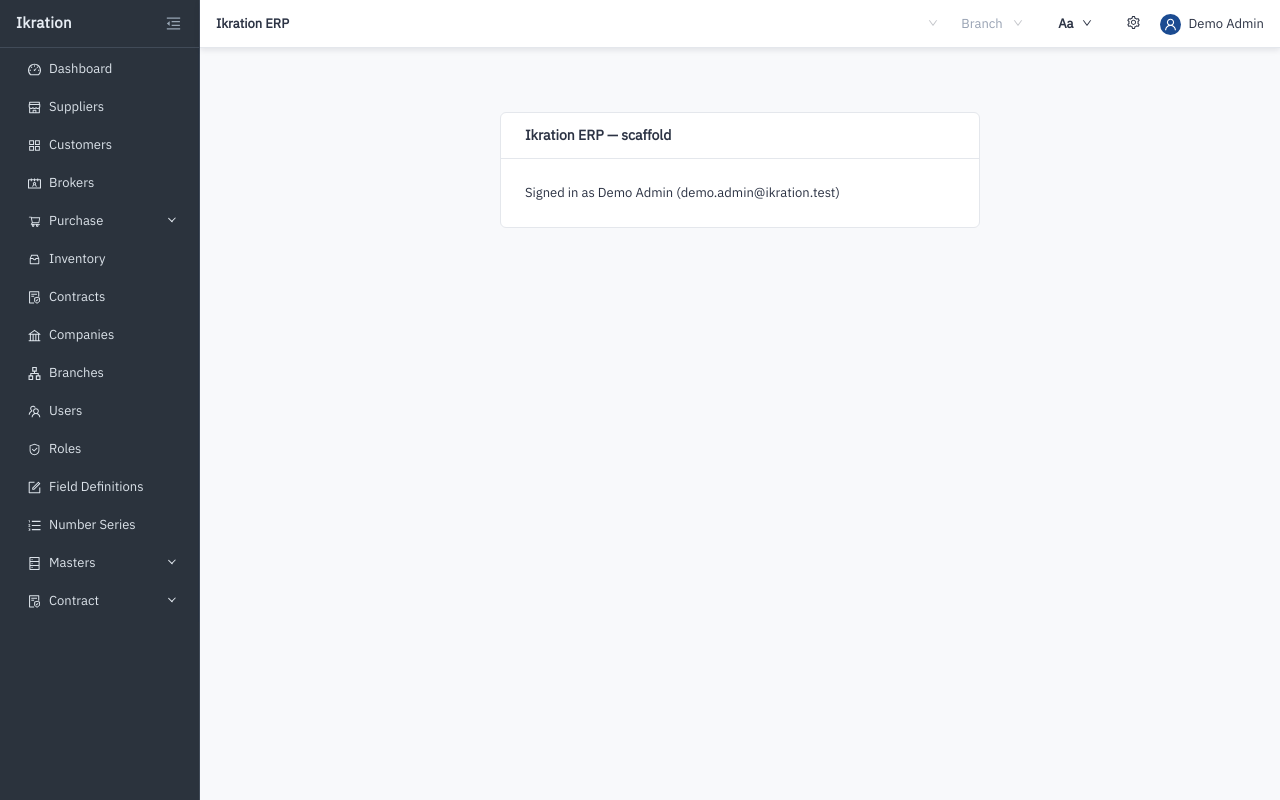
Test: navigation › Settings sub-nav shows only configure items - reached via the header gear
Click the button named "Settings" at {"x": 1134, "y": 23}, box [1120, 9, 1148, 37]
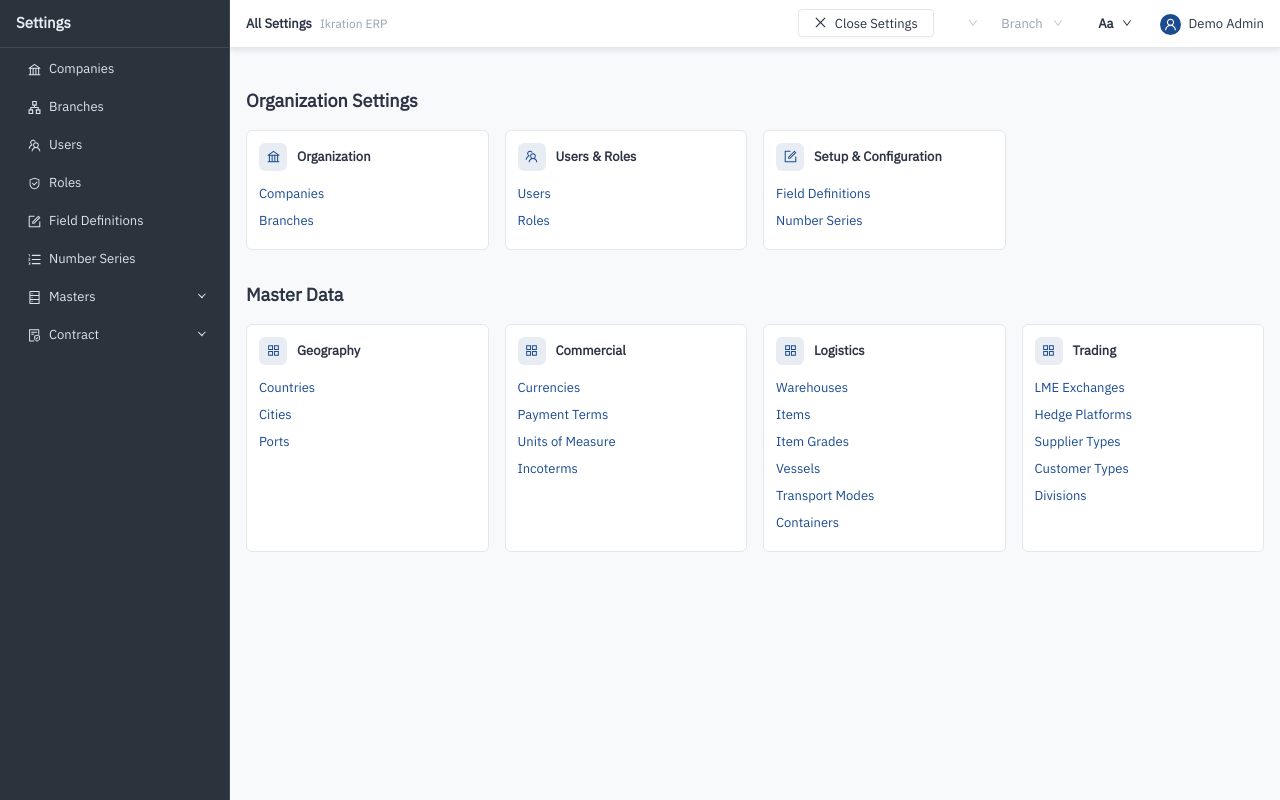
Expected: the text "Users" is shown, [49, 136, 82, 153]
Expected: the menu item "Purchase" is gone
Expected: the menu item "Suppliers" is gone
